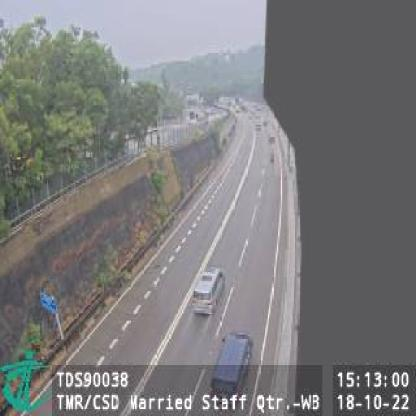Car: (209, 332, 254, 409), (192, 266, 226, 317)
